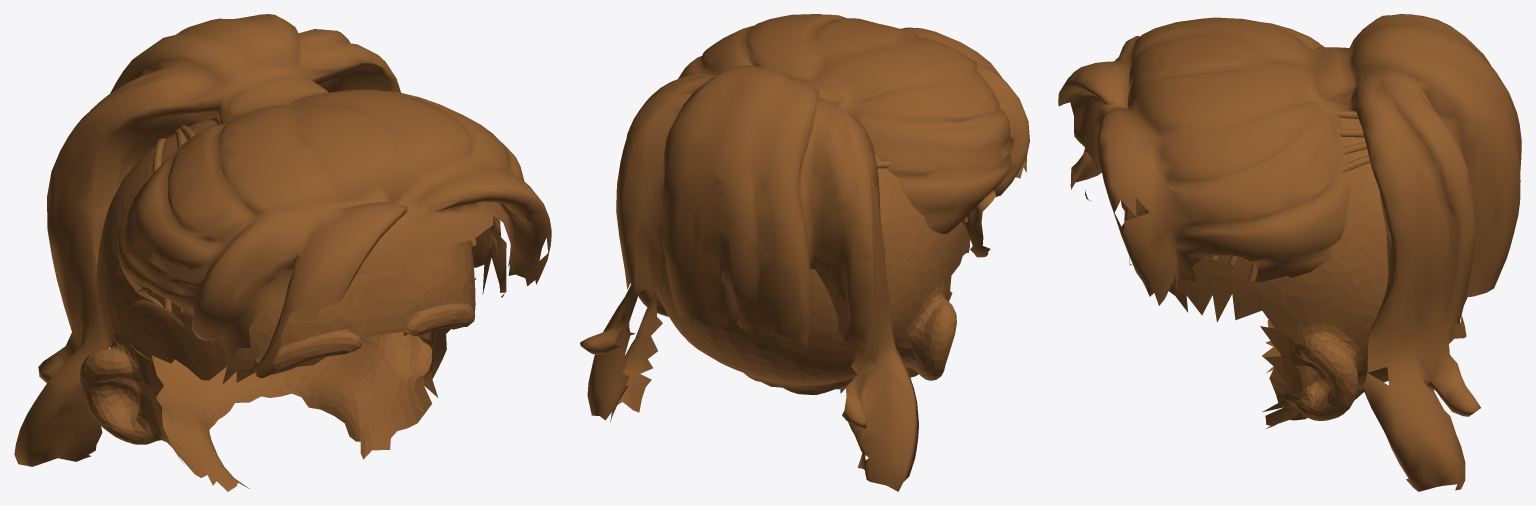
The model's file is ponytail.glb.
3 views of the same model, side by side, from view 1: azimuth 30°, elevation 25°; view 2: azimuth 150°, elevation 25°; view 3: azimuth 270°, elevation 25° (orthographic). The views are drawn at different scales.
Parts seen in each view (by area): view 1: Hair, HairScalp, HairPulledRootStrands; view 2: Hair, HairScalp; view 3: Hair, HairScalp, HairPulledRootStrands.
Boxes of the visible parts, x1,y1,x2,y2 form: Hair: [14, 14, 551, 466]; HairScalp: [79, 120, 475, 491]; HairPulledRootStrands: [152, 116, 476, 313]; Hair: [580, 14, 1029, 491]; HairScalp: [638, 153, 970, 394]; Hair: [1058, 14, 1521, 491]; HairScalp: [1121, 118, 1467, 429]; HairPulledRootStrands: [1210, 110, 1370, 281].
Bounding box in the file's own units: 0.4809 × 0.5018 × 0.5417.
